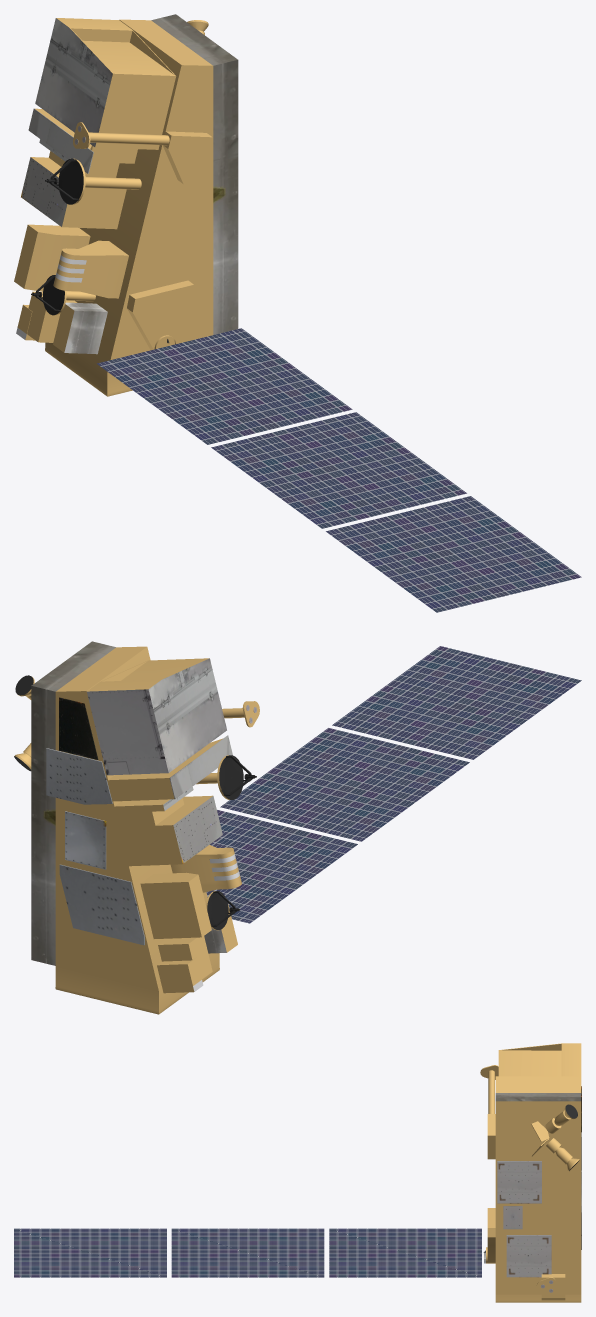
Rendered from suomi-npp.glb.
3 views of the same model, one above another, from view 1: azimuth 30°, elevation 25°; view 2: azimuth 150°, elevation 25°; view 3: azimuth 270°, elevation 25° (orthographic). The views are drawn at different scales.
Visible parts, largest first — view 1: foil_gold, shiny_panel, tex_02, AO_01; view 2: shiny_panel, foil_gold, tex_02, tex_01, AO_01, foil_silver; view 3: shiny_panel, foil_gold, tex_01, tex_02.
Part boxes in pixels (<box>): foil_gold: <box>14,18,213,396</box>; shiny_panel: <box>97,328,581,612</box>; tex_02: <box>21,14,238,354</box>; AO_01: <box>31,158,83,315</box>; shiny_panel: <box>206,646,581,923</box>; foil_gold: <box>15,646,259,1014</box>; tex_02: <box>31,641,232,965</box>; tex_01: <box>46,705,256,945</box>; AO_01: <box>14,675,256,929</box>; foil_silver: <box>193,854,239,991</box>; shiny_panel: <box>14,1228,481,1277</box>; foil_gold: <box>480,1043,581,1302</box>; tex_01: <box>483,1132,581,1292</box>; tex_02: <box>495,1086,581,1132</box>.
Bounding box in the file's own units: 2.57 × 4.18 × 8.96.
Materials: 6 (4 with a texture image).
